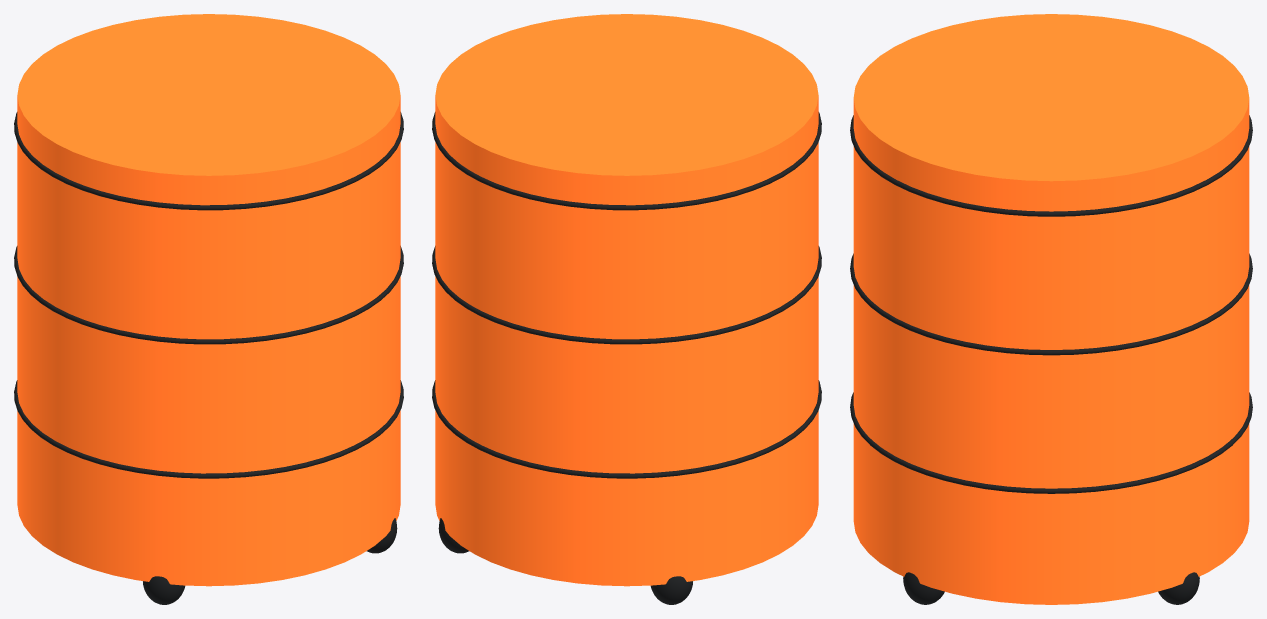
File: ref06_17.glb
3 views of the same model, side by side, from view 1: azimuth 30°, elevation 25°; view 2: azimuth 150°, elevation 25°; view 3: azimuth 270°, elevation 25° (orthographic). The views are drawn at different scales.
Parts seen in each view (by area): view 1: ref06_17; view 2: ref06_17; view 3: ref06_17.
Part boxes in pixels (x1=…): ref06_17: x1=14, y1=14, x2=403, y2=604; ref06_17: x1=432, y1=14, x2=821, y2=604; ref06_17: x1=850, y1=14, x2=1252, y2=604.
Size of the model in its own units: 0.448 by 0.555 by 0.448.
